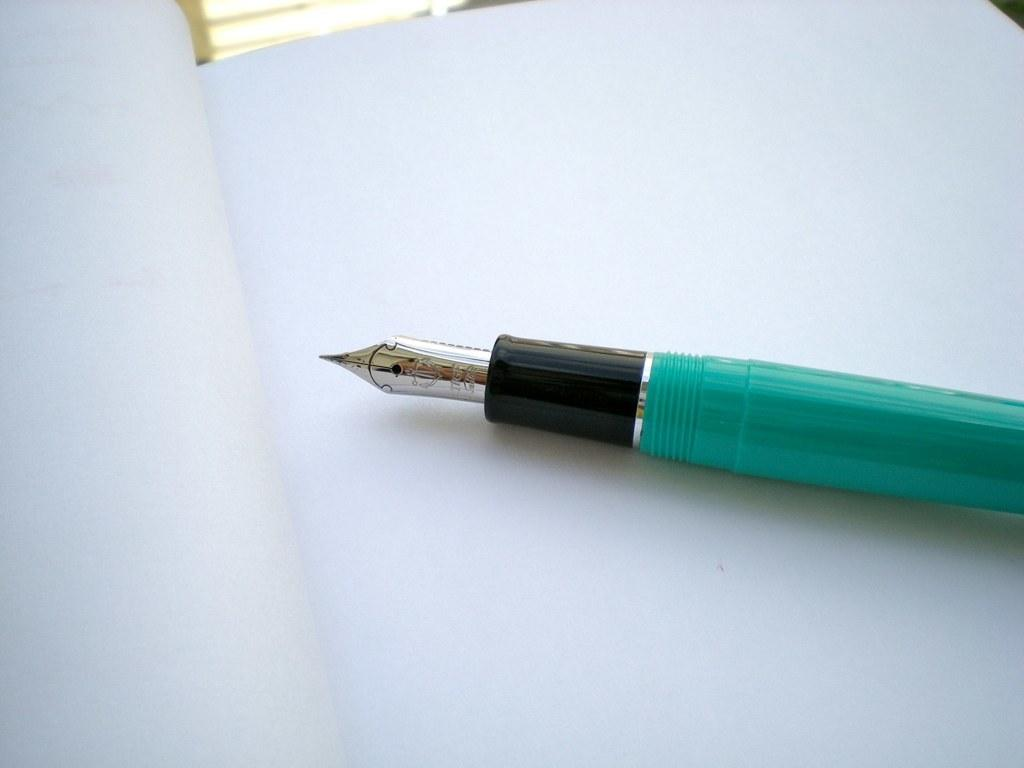pen: (312, 327, 1022, 518)
